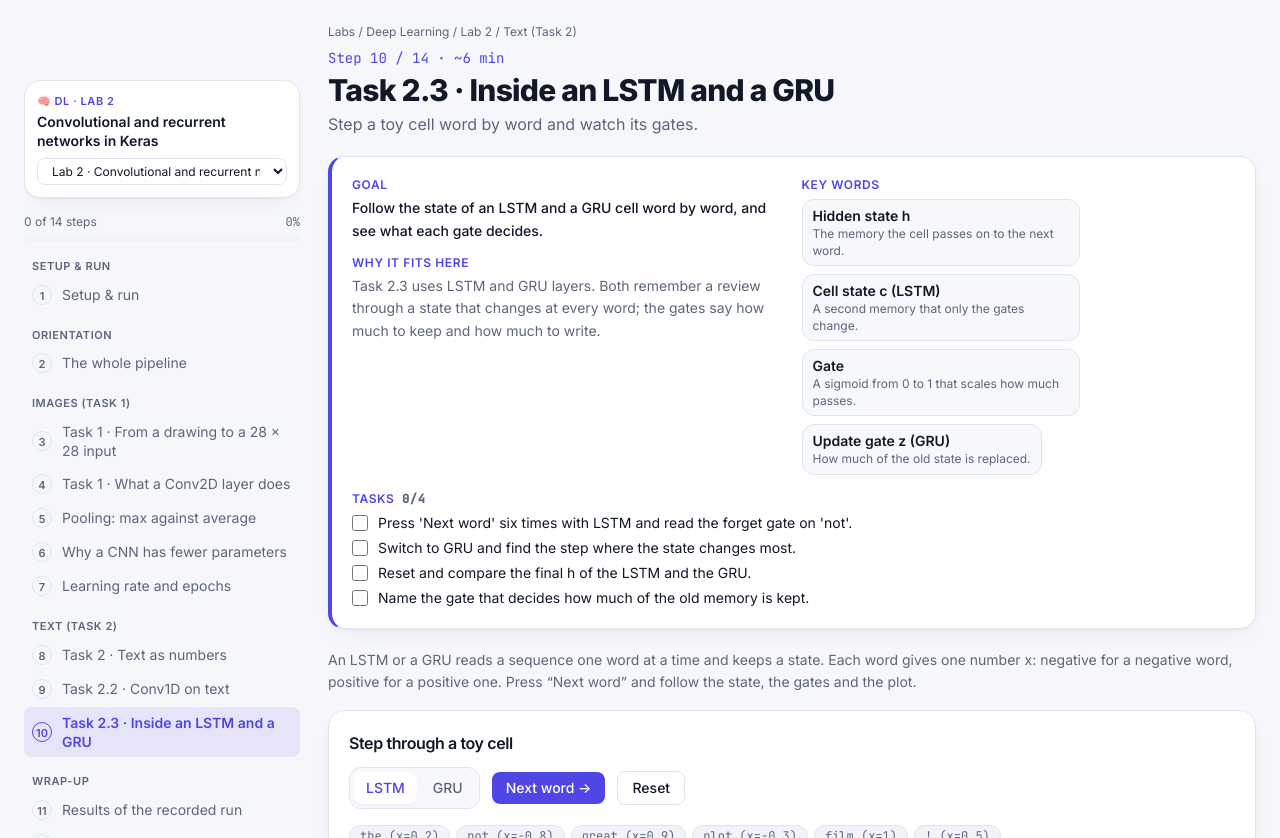
Scenario: Lab 2 widgets compute and respond › switching the toy cell to GRU shows its own equations
Click the radio button labelled "GRU". click: (448, 788)
box: 421,772 -> 475,804
(page scrolled)
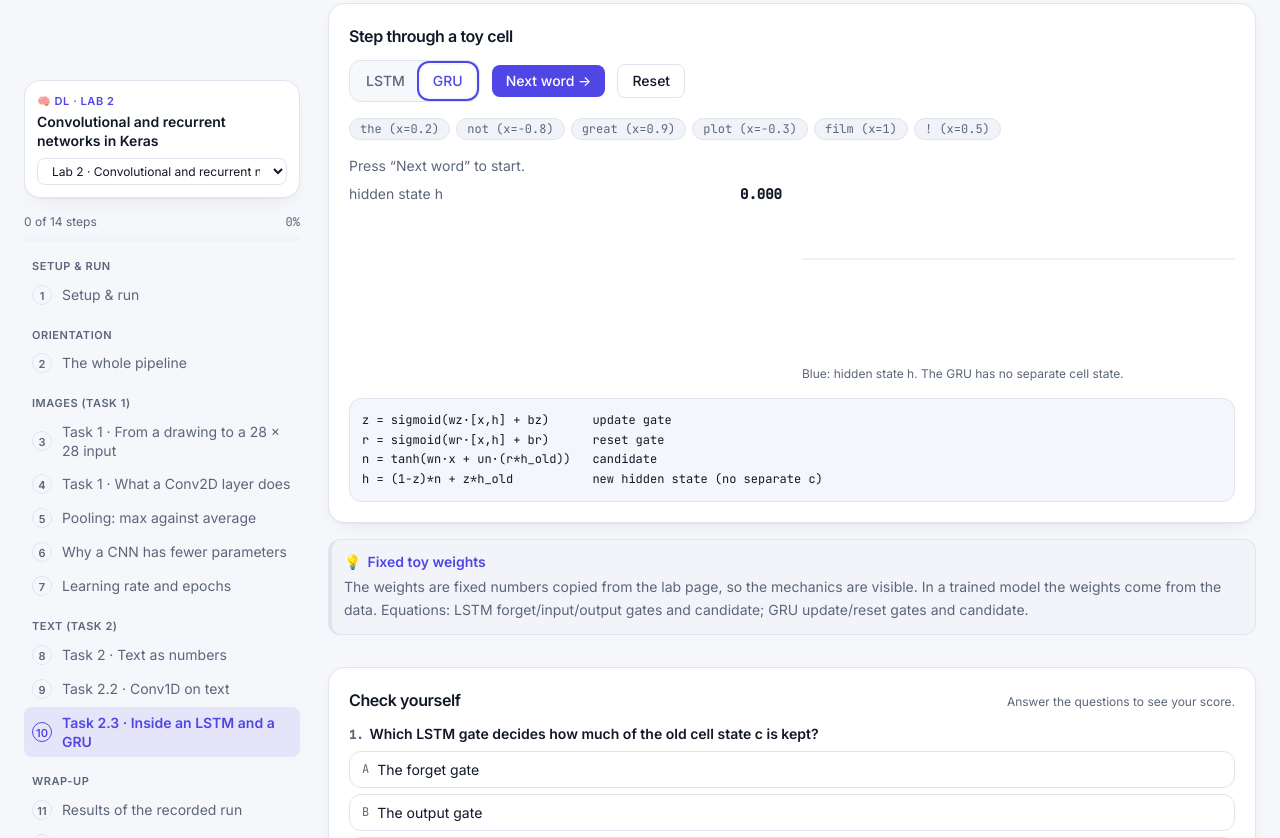
Check: the text "z = sigmoid" is shown, box 362,412 -> 823,487
